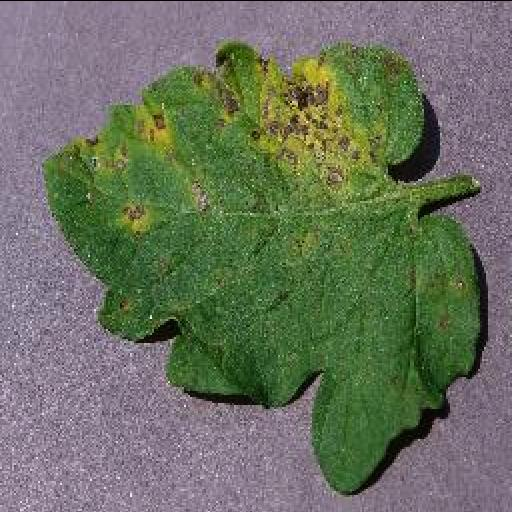disease_tomato: (42, 38, 480, 496)
